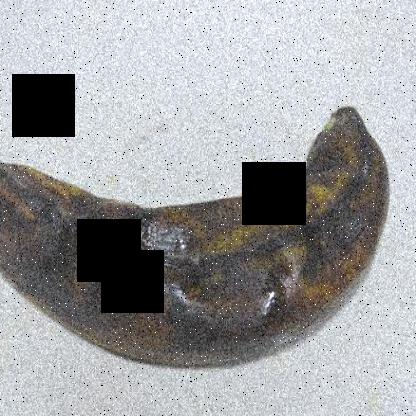rotten: (1, 90, 401, 389)
